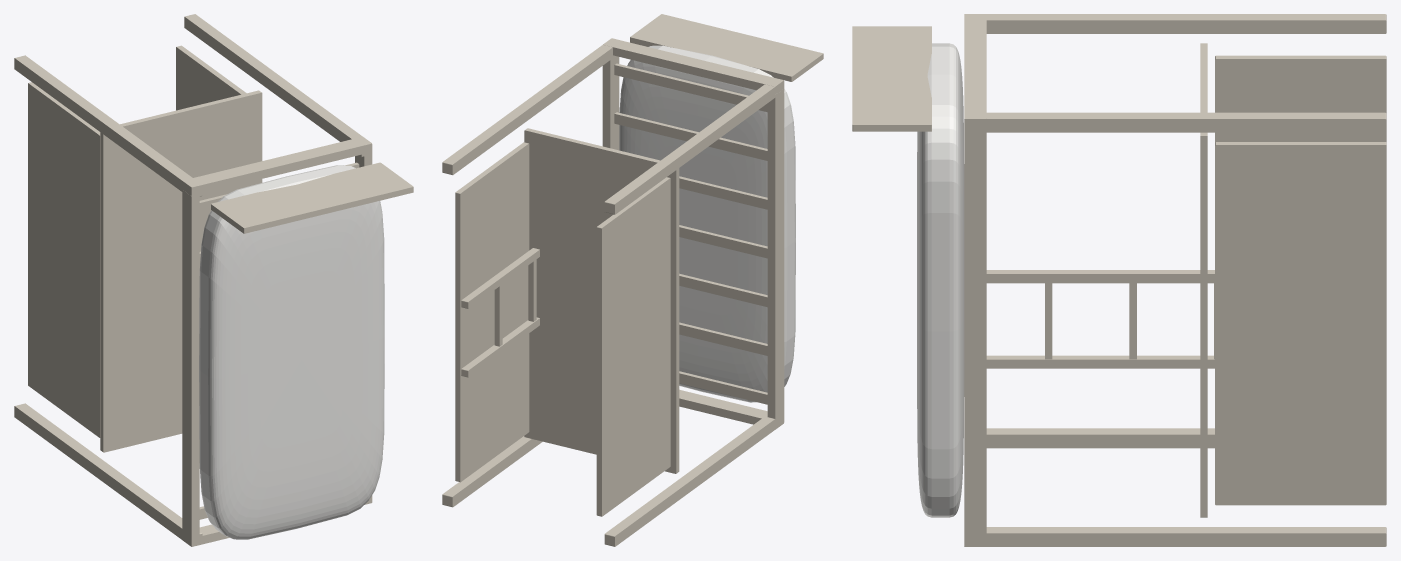
The model's file is bed_loft.glb.
The picture shows the model from 3 angles, left to right: view 1: azimuth 30°, elevation 25°; view 2: azimuth 150°, elevation 25°; view 3: azimuth 270°, elevation 25°; orthographic projection. The views are drawn at different scales.
Parts seen in each view (by area): view 1: mattress, desk_top, desk_leg, guard, rail_6, post_1, post, post_3, rail_5, desk_leg_25; view 2: mattress, desk_top, desk_leg, desk_leg_25, rail_6, guard, post_1, post, post_3, rail_5, post_2, slat_14 (+12 smaller); view 3: desk_leg_25, mattress, desk_leg, rail_7, post_3, guard, post_2, post_1, post, desk_top, ladder_rail_18, ladder_rail (+1 smaller).
Boxes of the visible parts, <box> form: mattress: <box>199,165,384,539</box>; desk_top: <box>100,90,262,452</box>; desk_leg: <box>28,82,100,437</box>; guard: <box>211,162,413,233</box>; rail_6: <box>182,189,199,538</box>; post_1: <box>14,55,202,197</box>; post: <box>14,403,202,546</box>; post_3: <box>184,14,372,157</box>; rail_5: <box>182,136,371,195</box>; desk_leg_25: <box>176,45,246,110</box>; mattress: <box>619,45,795,402</box>; desk_top: <box>524,128,679,473</box>; desk_leg: <box>596,177,670,516</box>; desk_leg_25: <box>455,142,529,482</box>; rail_6: <box>767,89,784,421</box>; guard: <box>630,14,823,81</box>; post_1: <box>604,81,784,214</box>; post: <box>604,415,784,546</box>; post_3: <box>442,45,615,175</box>; rail_5: <box>603,38,783,93</box>; post_2: <box>442,436,542,507</box>; slat_14: <box>614,63,767,112</box>; desk_leg_25: <box>1215,142,1386,505</box>; mattress: <box>917,43,964,517</box>; desk_leg: <box>1215,55,1386,141</box>; rail_7: <box>964,129,986,536</box>; post_3: <box>964,112,1386,132</box>; guard: <box>852,26,931,131</box>; post_2: <box>964,527,1386,546</box>; post_1: <box>986,14,1386,33</box>; post: <box>986,428,1214,448</box>; desk_top: <box>1200,43,1207,517</box>; ladder_rail_18: <box>986,270,1214,283</box>; ladder_rail: <box>986,355,1214,368</box>.
Bounding box in the file's own units: 1 × 1.9 × 2.15.
